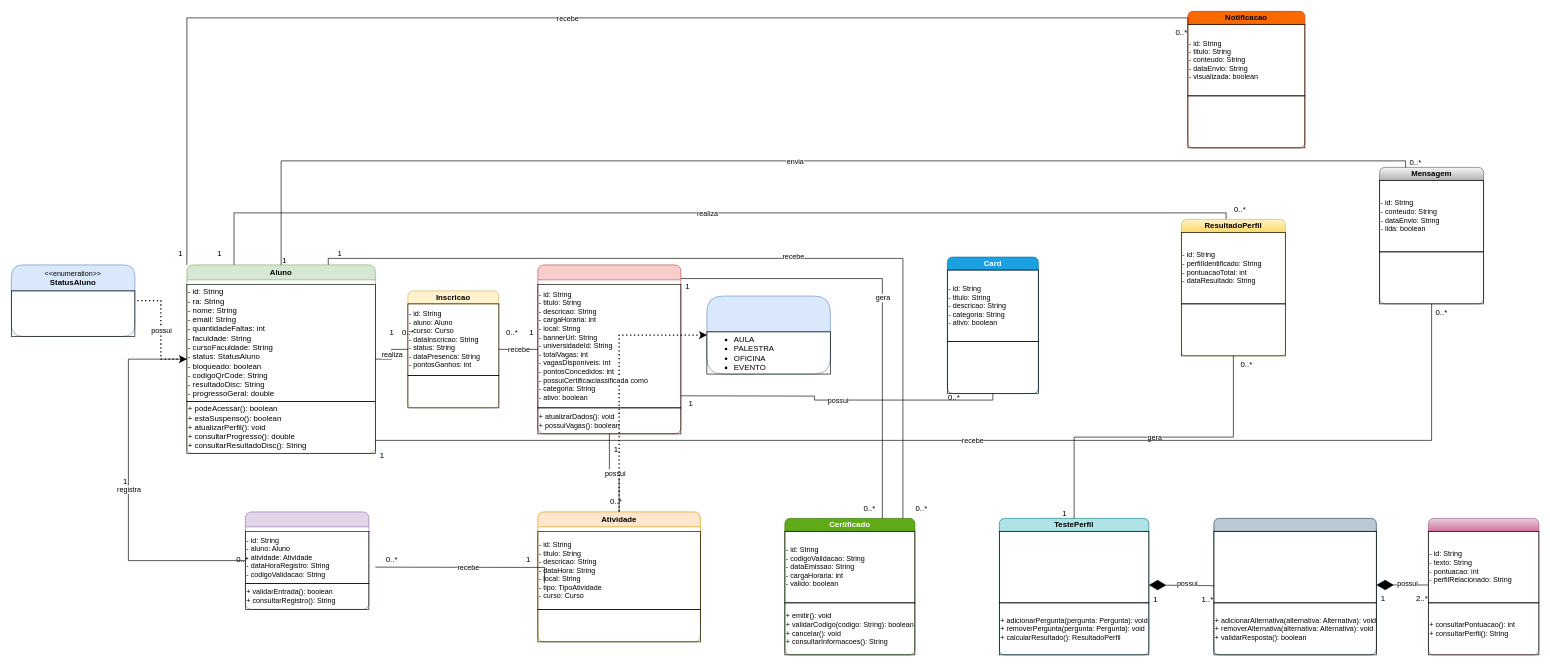
Image size: 1550x666. Some labels were removed from this diagram. The shapes that lost their labels are listed below. From the top down, each one's box as (x1, y1, x2, y2) in pixels, then its label:
(1187, 95, 1305, 148): + enviar(): void + marcarComoVisualizada(): void + excluir(): void
(1379, 251, 1484, 304): + enviar(): void + marcarComoLida(): void + excluir(): void
(11, 290, 135, 336): ATIVO SUSPENSO BLOQUEADO INATIVO
(1181, 303, 1285, 356): + calcularPontuacao(): int + exibirResultado(): String
(537, 264, 681, 434): Curso
(706, 295, 830, 374): <<enumeration>> TipoAtividade
(947, 341, 1038, 394): + exibir(): void + atualizarConteudo(): void + desativar(): void
(407, 375, 499, 408): + confirmar(): void + cancelar(): void + estaAtiva(): boolean
(245, 511, 369, 609): Presenca
(999, 531, 1149, 603): - id: String - titulo: String - descricao: String - ativo: boolean
(1213, 531, 1376, 603): - id: String - enunciado: String - obrigatoria: boolean
(1213, 518, 1376, 655): Pergunta
(1428, 518, 1539, 655): Alternativa
(537, 609, 700, 642): + alterarDataHora(dataHora: String): void + consultarInformacoes(): String
